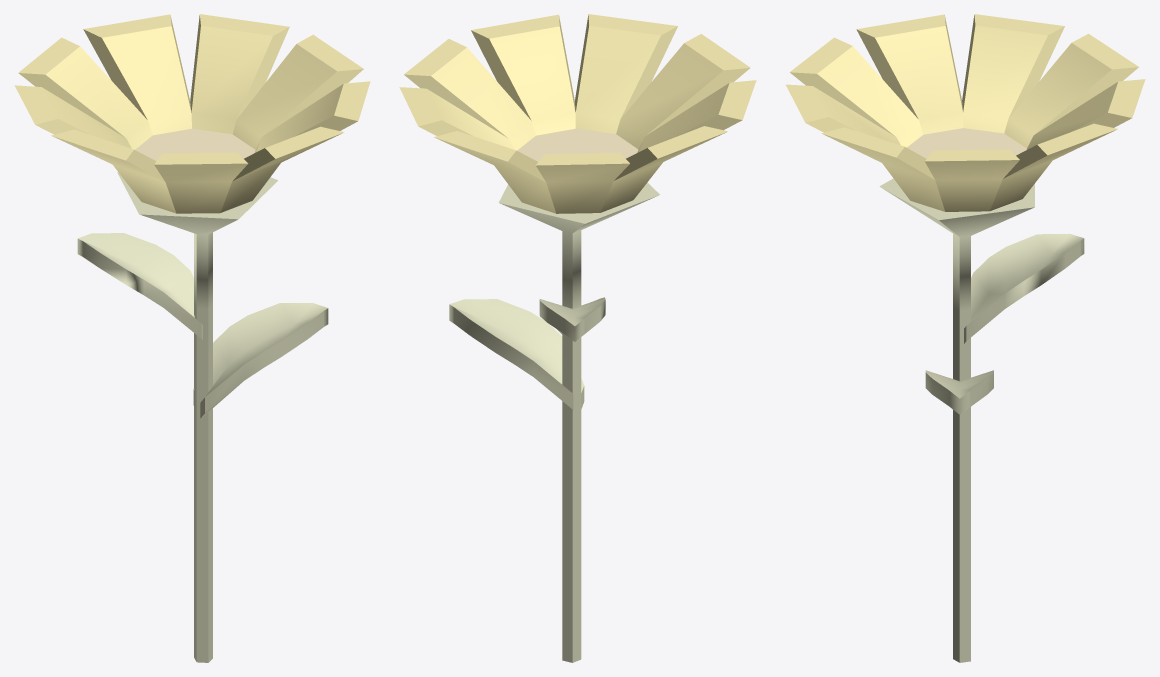
File: Flower.glb
3 views of the same model, side by side, from view 1: azimuth 30°, elevation 25°; view 2: azimuth 150°, elevation 25°; view 3: azimuth 270°, elevation 25° (orthographic).
Parts seen in each view (by area): view 1: pCube10; view 2: pCube10; view 3: pCube10.
Boxes of the visible parts, bbox=[...] form: pCube10: bbox=[14, 14, 370, 662]; pCube10: bbox=[399, 14, 756, 662]; pCube10: bbox=[785, 14, 1145, 662].
Bounding box in the file's own units: 6.41 × 11.48 × 6.62.
